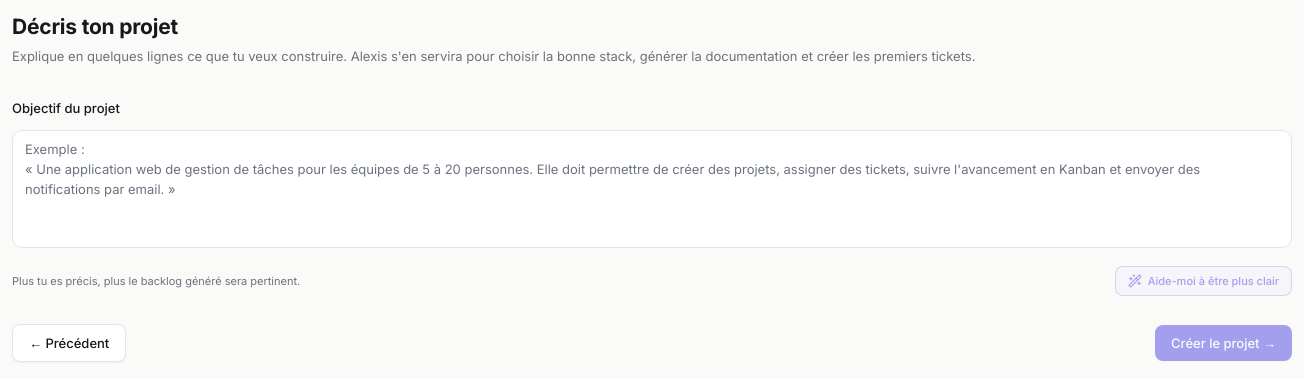
DescriptionPage — bouton Aide-moi à être plus clair › affiche un état de chargement pendant l'appel
Replace the text in the text box with "une idée" at (652, 189), box [12,130,1292,248]
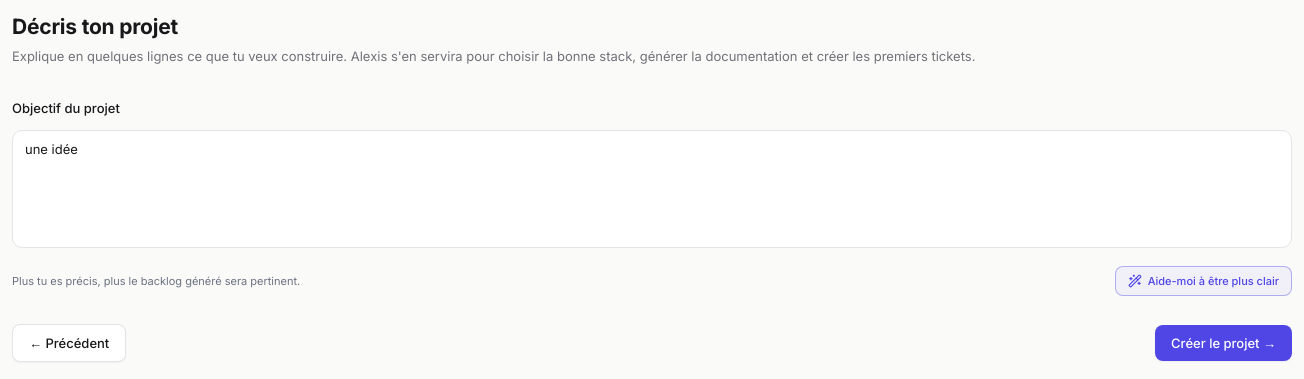
Click the button "Aide-moi à être plus clair".
click(1203, 281)  # box [1115,266,1292,296]
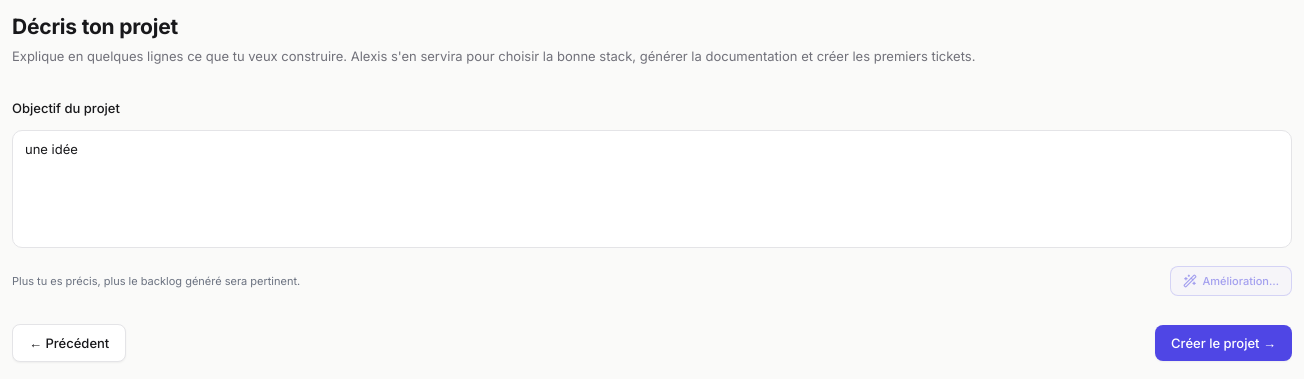
Check: the button "Amélioration…" is shown, box [1170,266,1292,296]
